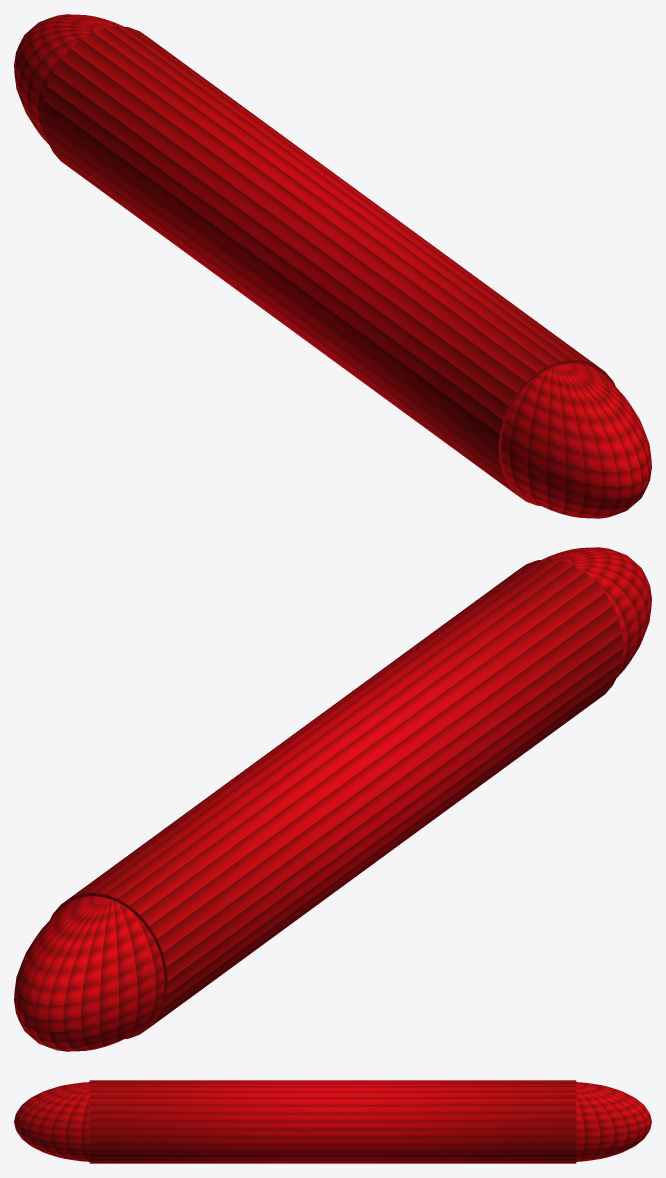
File: laser.dae
3 renders of one model, top to bottom at view 1: azimuth 30°, elevation 25°; view 2: azimuth 150°, elevation 25°; view 3: azimuth 270°, elevation 25°, orthographic. The views are drawn at different scales.
Parts seen in each view (by area): view 1: Sphere; view 2: Sphere; view 3: Sphere.
Part boxes in pixels (x1,y1,x2,y2): Sphere: [14, 14, 651, 518]; Sphere: [14, 547, 651, 1051]; Sphere: [14, 1080, 651, 1163].
Size of the model in its own units: 0.2571 by 2.13 by 0.2828.
1 material, 1 textured.
